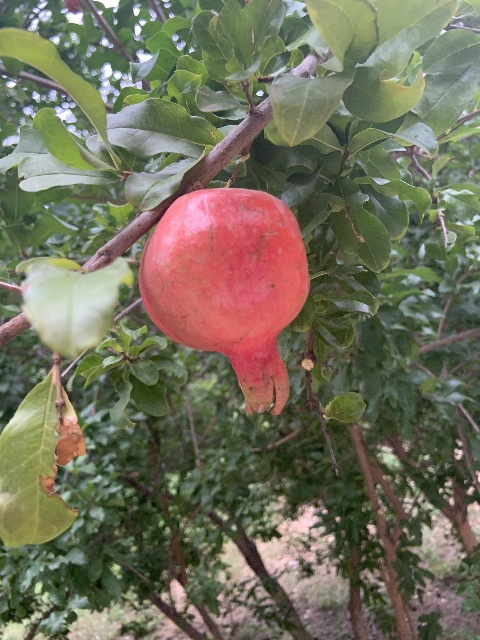ripe: (138, 186, 310, 416)
